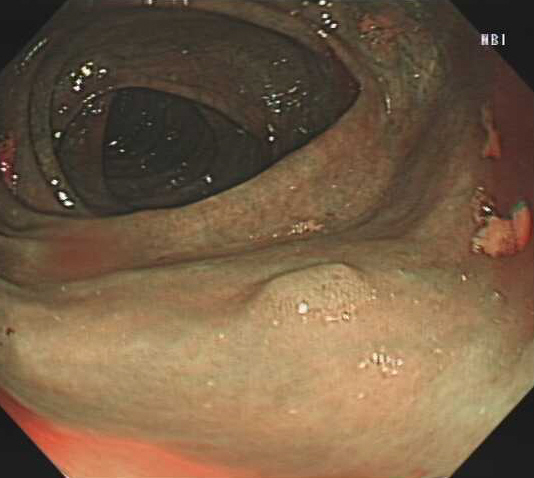adenoma: (241, 259, 379, 325)
